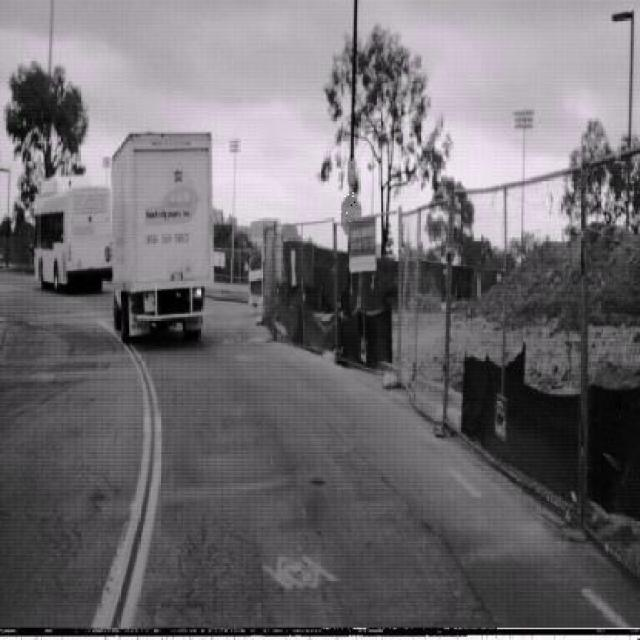stop: (340, 192, 362, 236)
